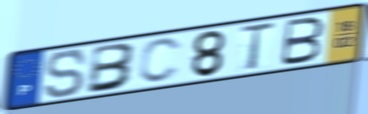8: (191, 28, 228, 78)
B: (85, 41, 139, 96), (278, 15, 327, 68)
C: (137, 36, 185, 85)
S: (44, 48, 88, 101)
T: (237, 20, 277, 73)
